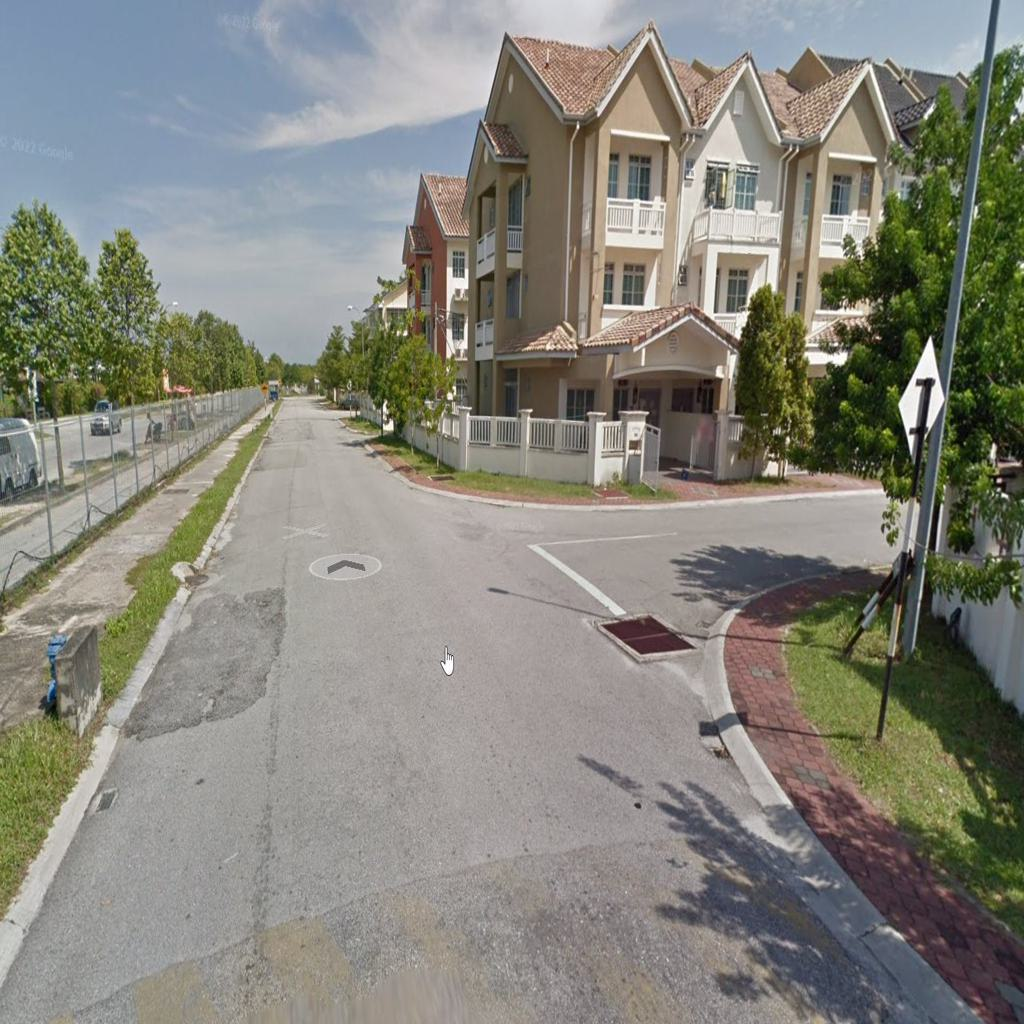Junction: (436, 465, 841, 695)
